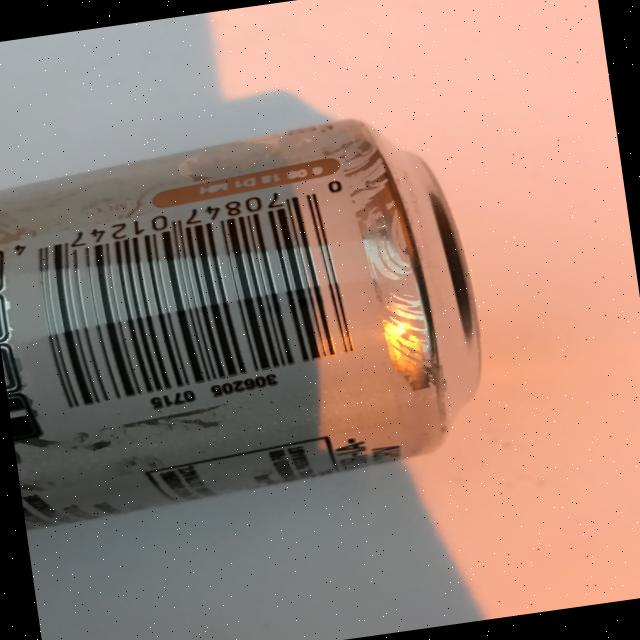metal: (0, 103, 500, 530)
